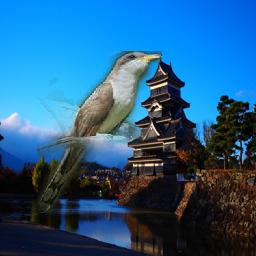Cuckoo: (38, 51, 163, 213)
